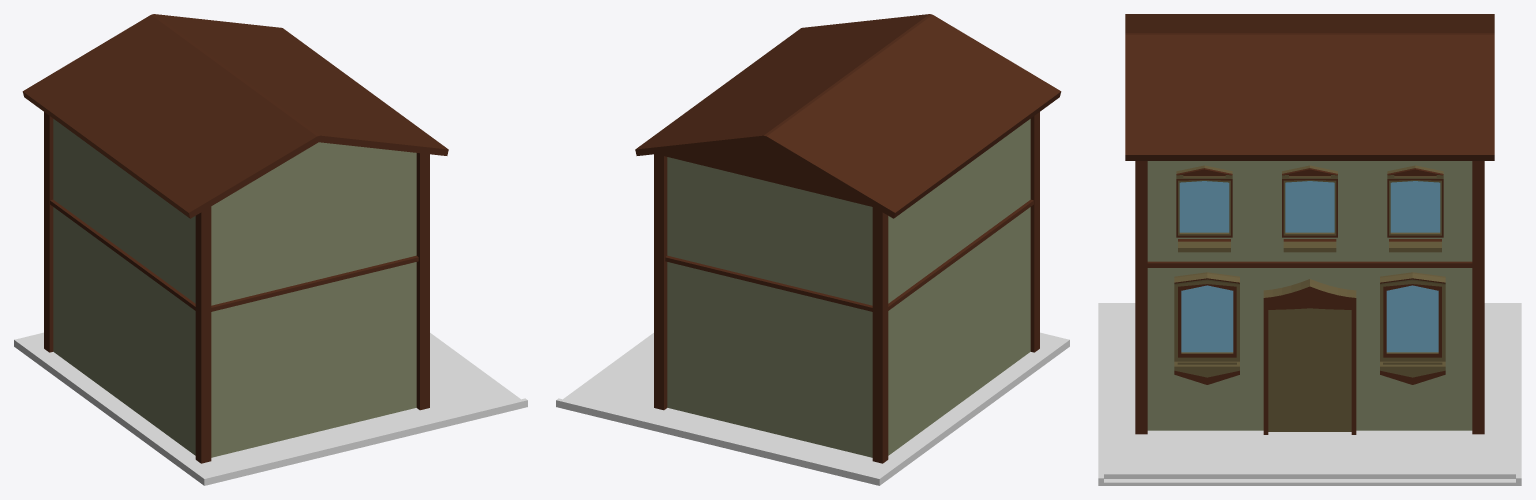
The model's file is apartment3.dae.
The picture shows the model from 3 angles, left to right: view 1: azimuth 30°, elevation 25°; view 2: azimuth 150°, elevation 25°; view 3: azimuth 270°, elevation 25°; orthographic projection. The views are drawn at different scales.
Visible parts, largest first — view 1: Cube_032; view 2: Cube_032; view 3: Cube_032.
Boxes of the visible parts, x1,y1,x2,y2 form: Cube_032: (14, 14, 527, 485); Cube_032: (556, 14, 1069, 485); Cube_032: (1098, 14, 1521, 485).
Bounding box in the file's own units: 64.49 × 65 × 63.64.
